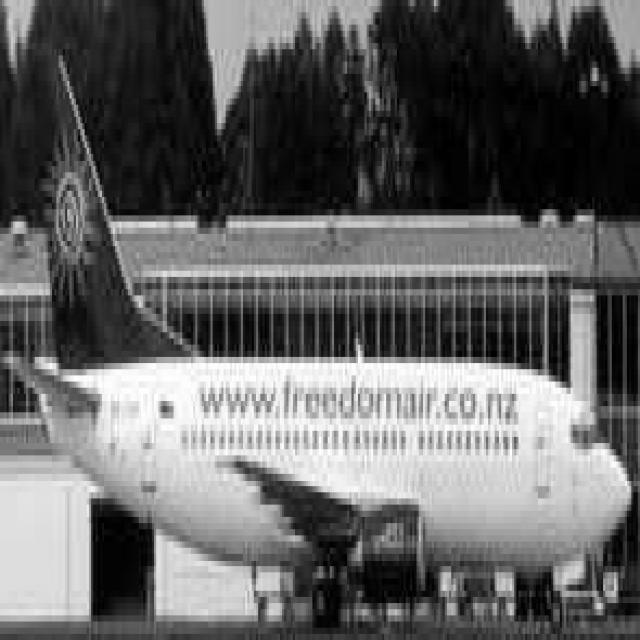Aircraft: (23, 42, 622, 602)
